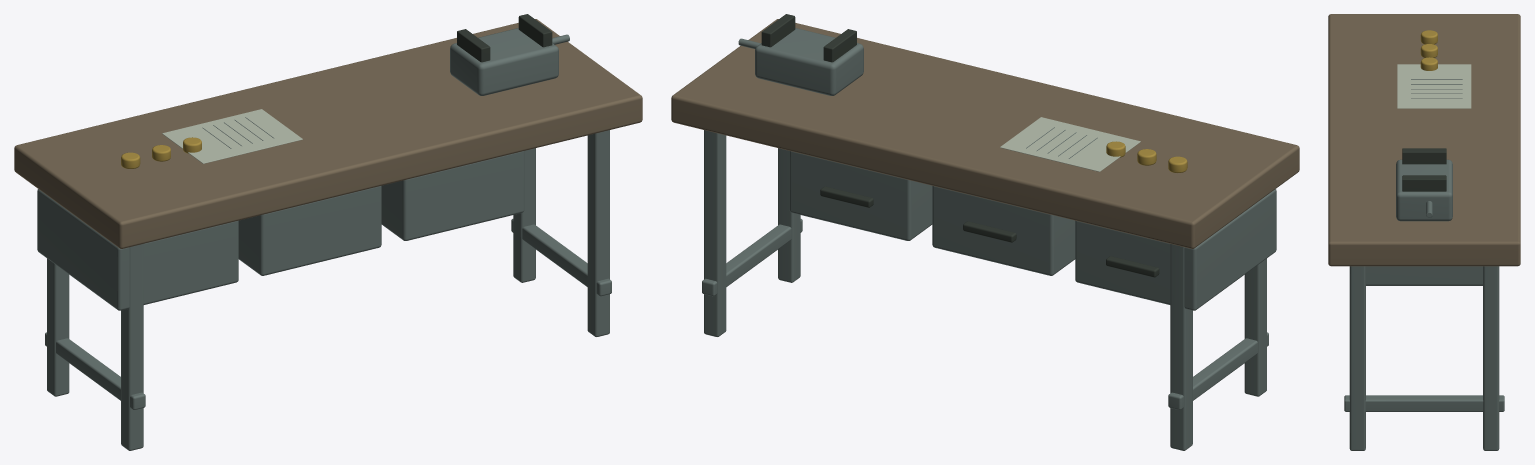
File: workbench.glb
3 views of the same model, side by side, from view 1: azimuth 30°, elevation 25°; view 2: azimuth 150°, elevation 25°; view 3: azimuth 270°, elevation 25° (orthographic). The views are drawn at different scales.
Parts seen in each view (by area): view 1: Bench top, Tool drawer, Tool drawer.002, Tool drawer.001, Bench vise, Bench leg.002, Bench leg, Folded work sheet, Bench leg.001, Bench leg.003, Bench crossbar.001, Bench crossbar (+2 smaller); view 2: Bench top, Tool drawer, Tool drawer.002, Tool drawer.001, Bench vise, Bench leg.003, Bench leg.001, Folded work sheet, Bench leg, Bench leg.002, Bench crossbar.001, Bench crossbar (+2 smaller); view 3: Bench top, Folded work sheet, Bench leg.002, Bench leg.003, Bench vise, Tool drawer.002, Bench crossbar.001, Vise jaw, Vise jaw.001, Loose coupling, Loose coupling.001, Loose coupling.002.
Part boxes in pixels (x1,y1,x2,y2): Bench top: (14,19,642,248); Tool drawer: (37,189,238,310); Tool drawer.002: (381,151,524,240); Tool drawer.001: (238,186,381,275); Bench vise: (450,28,558,95); Bench leg.002: (587,130,609,336); Bench leg: (121,244,143,450); Folded work sheet: (162,109,302,163); Bench leg.001: (47,258,69,396); Bench leg.003: (513,148,535,282); Bench crossbar.001: (511,219,611,296); Bench crossbar: (45,332,145,409); Bench top: (671,19,1299,248); Tool drawer: (1075,189,1276,310); Tool drawer.002: (789,151,932,240); Tool drawer.001: (932,186,1075,275); Bench vise: (755,28,863,95); Bench leg.003: (704,130,726,336); Bench leg.001: (1170,244,1192,450); Folded work sheet: (1000,117,1140,171); Bench leg: (1244,258,1266,396); Bench leg.002: (778,148,800,282); Bench crossbar.001: (702,219,802,296); Bench crossbar: (1168,332,1268,409); Bench top: (1328,14,1520,266); Folded work sheet: (1397,64,1471,108); Bench leg.002: (1349,266,1365,450); Bench leg.003: (1483,266,1499,450); Bench vise: (1396,159,1452,221); Tool drawer.002: (1366,266,1482,285); Bench crossbar.001: (1344,395,1504,411); Vise jaw: (1402,148,1446,164); Vise jaw.001: (1402,175,1446,191); Loose coupling: (1420,30,1437,44); Loose coupling.001: (1420,44,1437,57); Loose coupling.002: (1420,57,1437,70).
Size of the model in its own units: 2.2 by 1.16 by 0.78.
